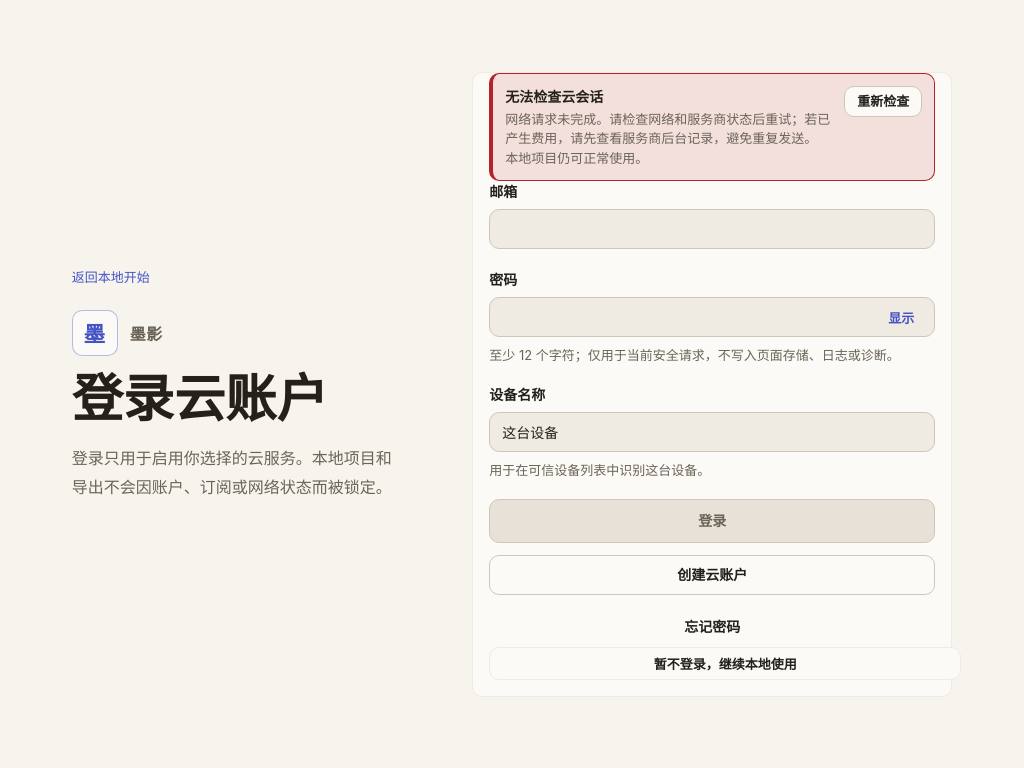
Test case: cloud login route › shows a retryable session-check error without leaving the login page
Expected: the text "无法检查云会话" is shown, [505,88,603,105]
Expected: the text "本地项目仍可正常使用" is shown, [505,111,830,166]
Click the button "重新检查" at (883, 101), box [844,86,922,117]
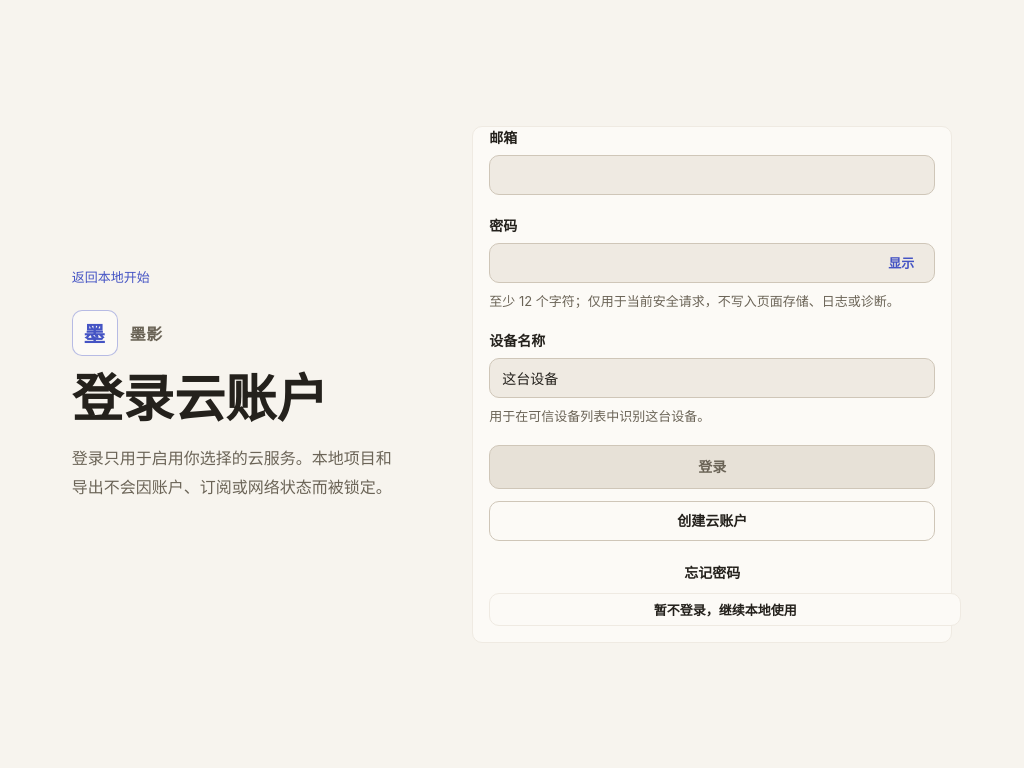
Expected: the heading "登录云账户" is shown, [72,372,328,428]
Result: the text "无法检查云会话" is gone
